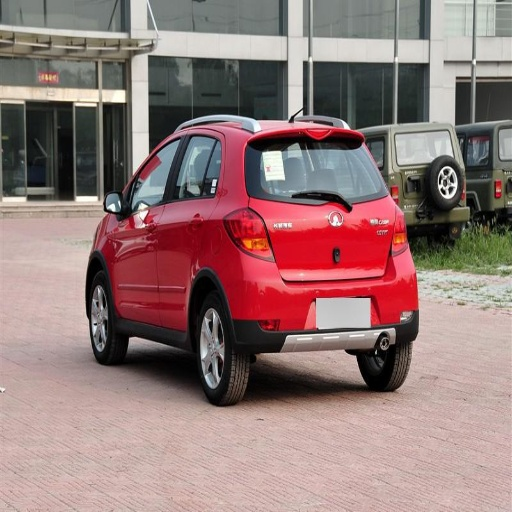back_bumper: (225, 247, 418, 351)
back_glass: (248, 138, 384, 201)
back_left_door: (167, 131, 222, 203)
trunk: (251, 200, 396, 286)
